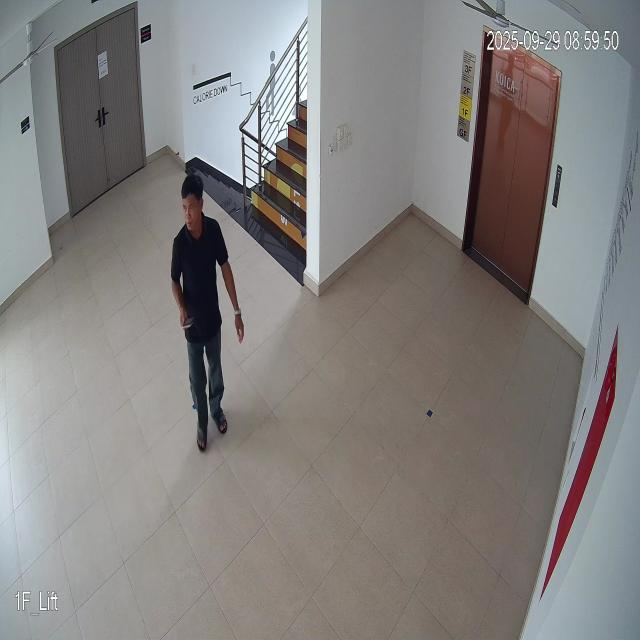face: (178, 174, 209, 238)
